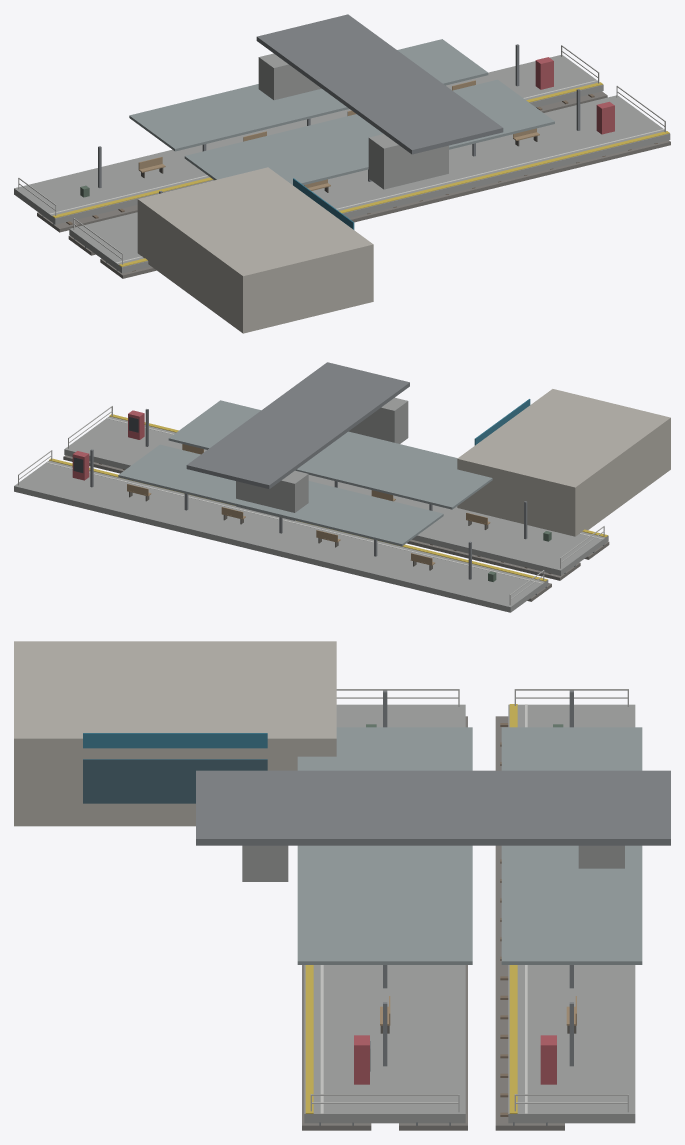
Rendered from station_3track_passing.glb.
3 renders of one model, top to bottom at view 1: azimuth 30°, elevation 25°; view 2: azimuth 150°, elevation 25°; view 3: azimuth 270°, elevation 25°, orthographic. The views are drawn at different scales.
Visible parts, largest first — view 1: station_main_building, footbridge_deck, platform_1, canopy_roof_1, platform_0, canopy_roof_0, footbridge_stair_7.300000000000001, trackbed_2, footbridge_stair_-7.300000000000001, tactile_strip_1, trackbed_0, tactile_strip_0 (+4 smaller); view 2: station_main_building, platform_0, footbridge_deck, canopy_roof_1, platform_1, canopy_roof_0, footbridge_stair_-7.300000000000001, footbridge_stair_7.300000000000001, trackbed_1, tactile_strip_0, white_line_0_0, station_sign; view 3: station_main_building, footbridge_deck, canopy_roof_1, platform_1, canopy_roof_0, platform_0, station_glazing, trackbed_0, station_sign, footbridge_stair_7.300000000000001, tactile_strip_0, tactile_strip_1 (+5 smaller).
Part boxes in pixels (x1,y1,x2,y2): station_main_building: [137, 167, 373, 333]; footbridge_deck: [256, 14, 503, 154]; platform_1: [69, 95, 670, 273]; canopy_roof_1: [184, 79, 554, 185]; platform_0: [14, 55, 603, 224]; canopy_roof_0: [129, 39, 488, 151]; footbridge_stair_7.300000000000001: [368, 134, 448, 189]; trackbed_2: [100, 140, 670, 278]; footbridge_stair_-7.300000000000001: [258, 53, 321, 100]; tactile_strip_1: [119, 131, 669, 266]; trackbed_0: [37, 91, 607, 232]; tactile_strip_0: [52, 82, 603, 218]; station_main_building: [457, 389, 670, 536]; platform_0: [14, 460, 548, 612]; footbridge_deck: [186, 362, 409, 489]; canopy_roof_1: [168, 400, 492, 509]; platform_1: [64, 416, 608, 575]; canopy_roof_0: [118, 444, 443, 546]; footbridge_stair_-7.300000000000001: [236, 470, 308, 520]; footbridge_stair_7.300000000000001: [348, 397, 408, 443]; trackbed_1: [63, 455, 580, 580]; tactile_strip_0: [49, 458, 547, 581]; white_line_0_0: [46, 462, 542, 583]; station_sign: [474, 399, 530, 445]; station_main_building: [14, 641, 336, 826]; footbridge_deck: [196, 770, 670, 845]; canopy_roof_1: [297, 727, 472, 964]; platform_1: [304, 704, 465, 1123]; canopy_roof_0: [501, 727, 642, 964]; platform_0: [508, 704, 635, 1123]; station_glazing: [83, 759, 267, 803]; trackbed_0: [495, 716, 564, 1130]; station_sign: [83, 733, 267, 748]; footbridge_stair_7.300000000000001: [242, 845, 288, 881]; tactile_strip_0: [509, 704, 517, 1113]; tactile_strip_1: [305, 965, 313, 1113].
Bounding box in the file's own units: 42 × 6.73 × 28.5.
